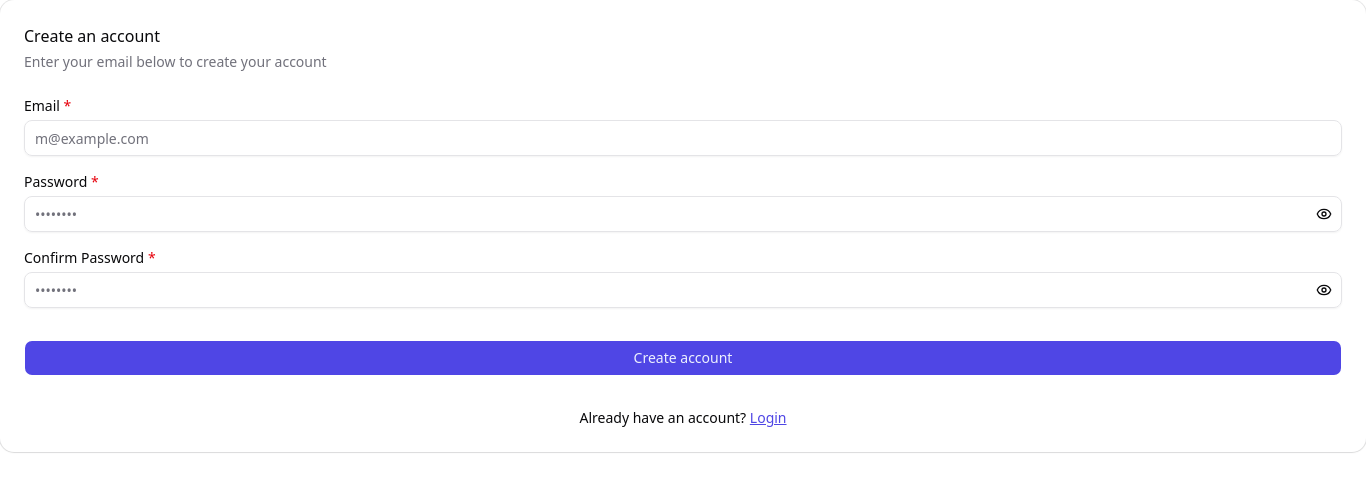
Test case: RegisterForm - Validation Logic › Password Validation › should show 'Password must be at least 6 characters' error when password is too short
The image size is (1366, 494).
Fill in with short password
In the field with placeholder "m@example.com": (683, 138) 24,120 -> 1342,156, type "test@example.com"
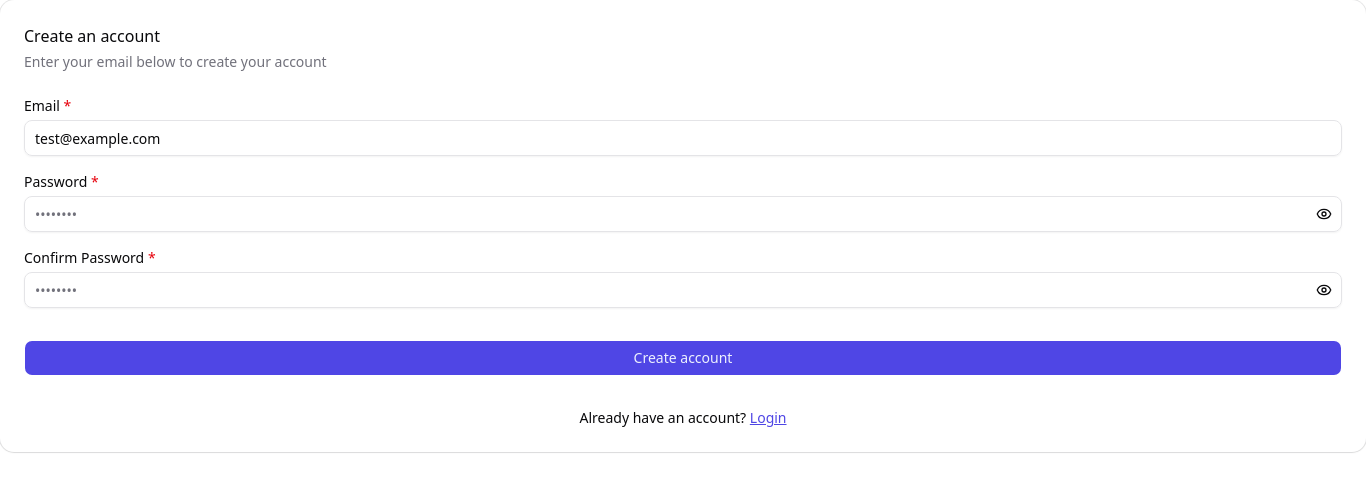
In the 1st password field with placeholder "••••••••": (683, 214) 24,196 -> 1342,232, type "12345"
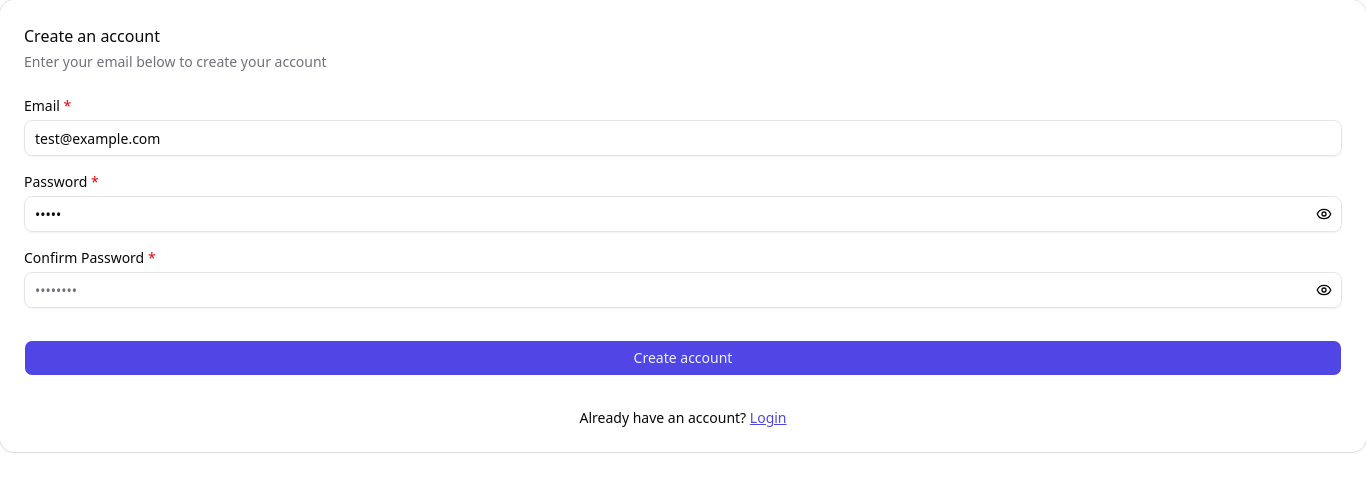
In the password field with placeholder "••••••••": (683, 290) 24,272 -> 1342,308, type "12345"
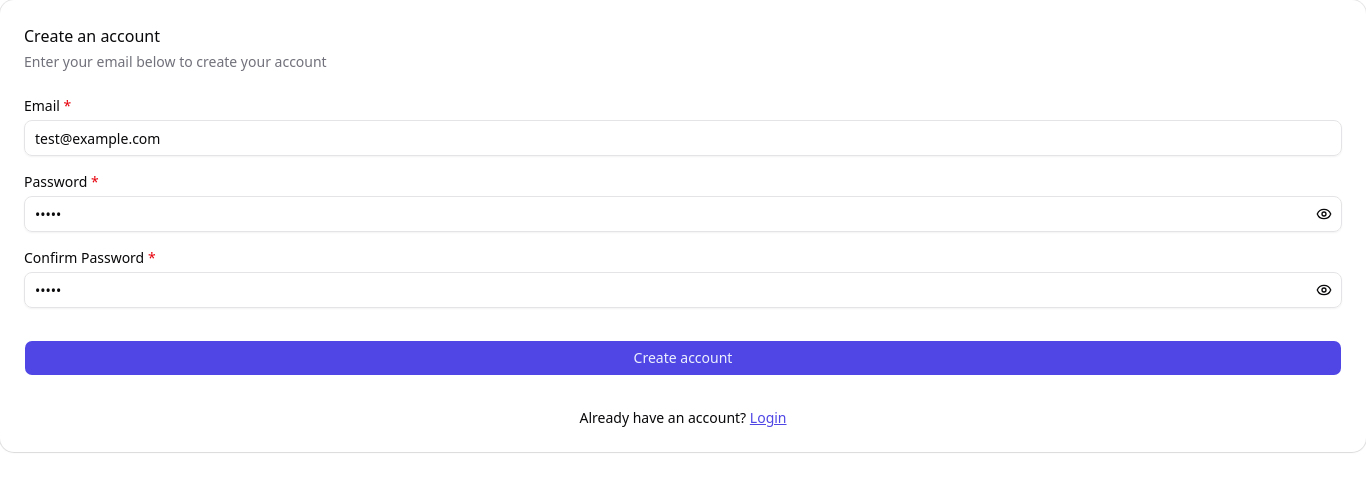
Submit the form
Click the button "Create account": (683, 358) 24,340 -> 1342,376
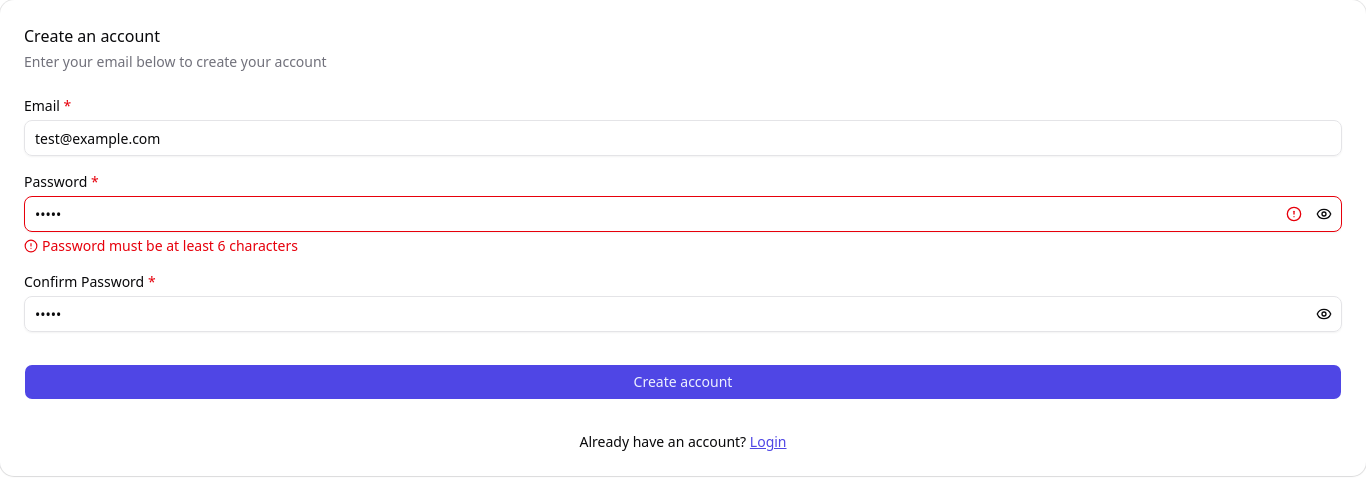
Check: the text "Password must be at least 6 characters" is shown, box 24,236 -> 298,255
